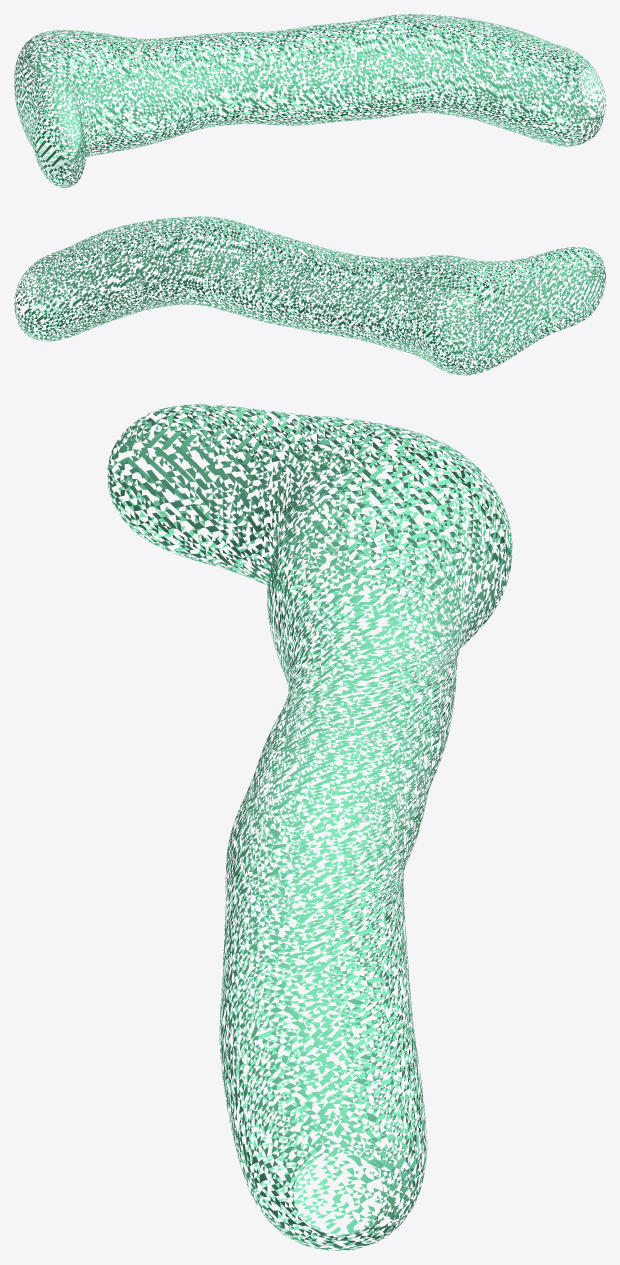
The model's file is healthy.glb.
The picture shows the model from 3 angles, top to bottom: view 1: azimuth 30°, elevation 25°; view 2: azimuth 150°, elevation 25°; view 3: azimuth 270°, elevation 25°; orthographic projection. The views are drawn at different scales.
Size of the model in its own units: 132 by 44.92 by 43.64.
